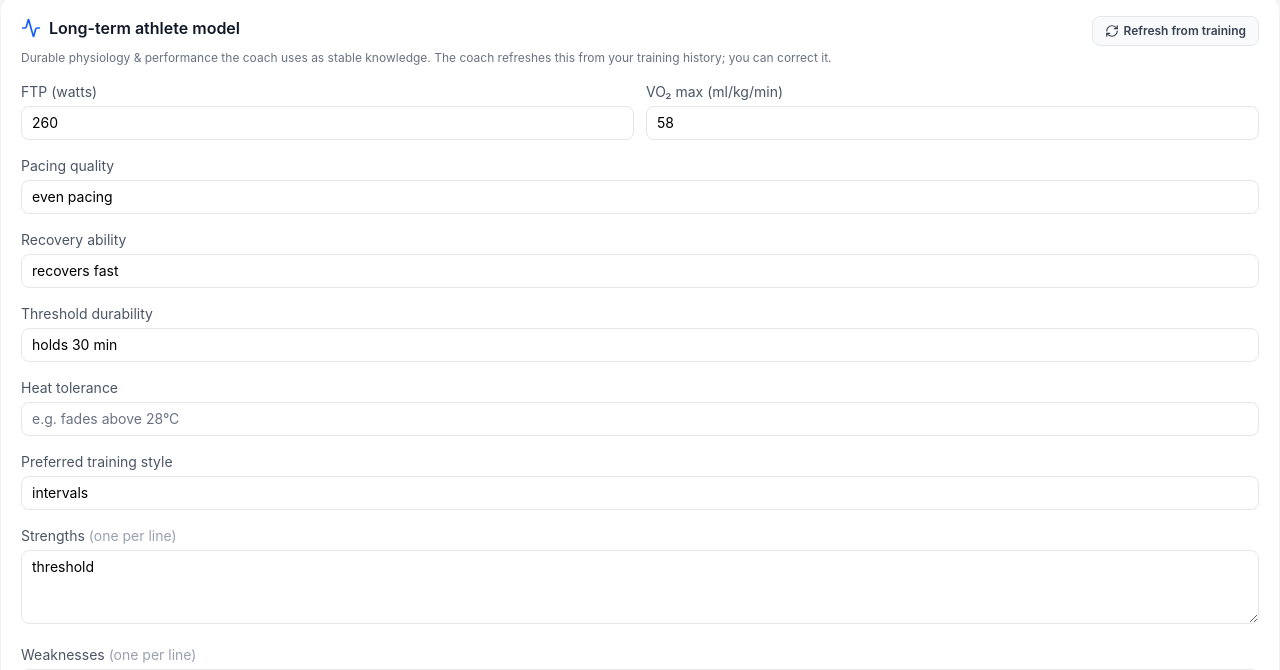
AthleteModelSettings › surfaces a refresh failure
Expected: the number field showing "260" is shown, [21,106,634,140]
Step 1. Click the button "Refresh from training" → (1176,31), box [1092,16,1259,46]
(page scrolled)
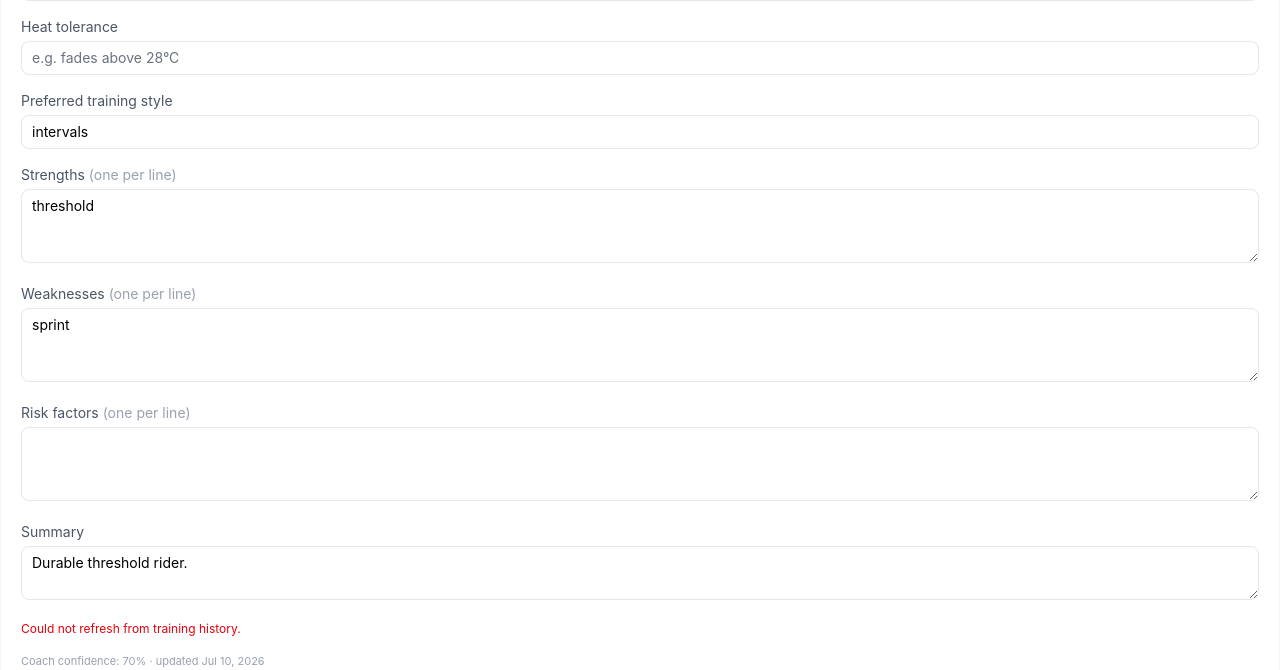
Expected: the text "Could not refresh from training history." is shown, [21,621,241,636]
